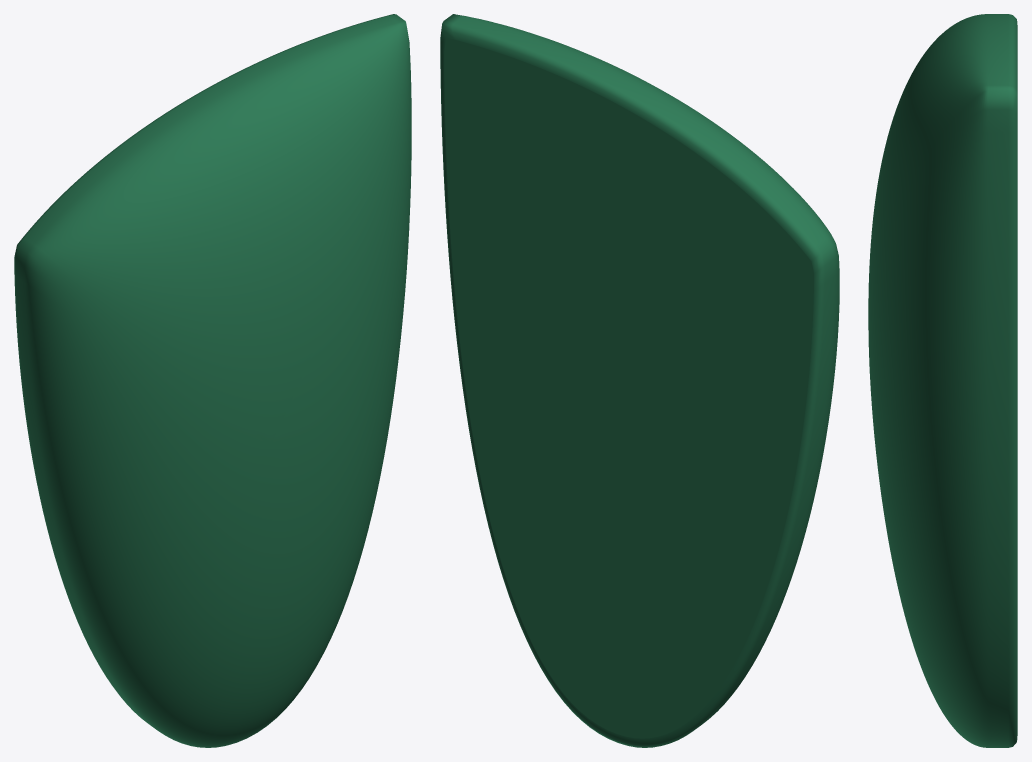
Rendered from side-tongue.glb.
The picture shows the model from 3 angles, left to right: view 1: azimuth 30°, elevation 25°; view 2: azimuth 150°, elevation 25°; view 3: azimuth 270°, elevation 25°; orthographic projection. The views are drawn at different scales.
Parts seen in each view (by area): view 1: Side-Tongue Cabochon 22x13x4mm; view 2: Side-Tongue Cabochon 22x13x4mm; view 3: Side-Tongue Cabochon 22x13x4mm.
Boxes of the visible parts, x1,y1,x2,y2 form: Side-Tongue Cabochon 22x13x4mm: (14,14,411,747); Side-Tongue Cabochon 22x13x4mm: (440,14,839,747); Side-Tongue Cabochon 22x13x4mm: (868,14,1017,747).
Bounding box in the file's own units: 0.013 × 0.022 × 0.00398.
